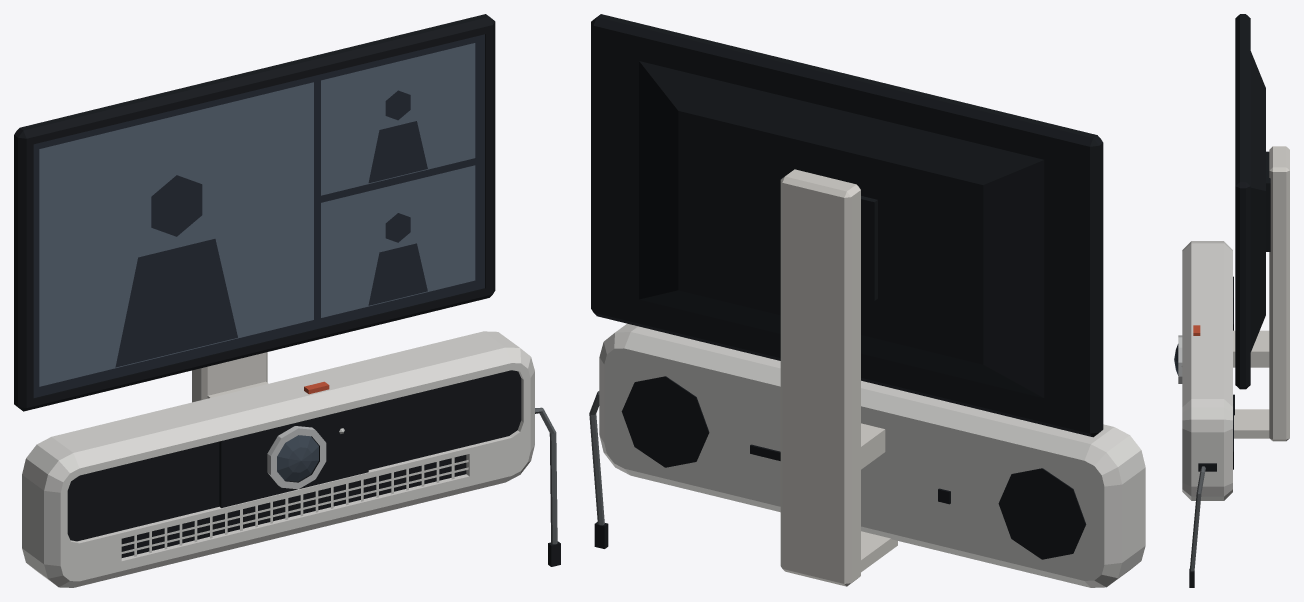
The model's file is conference-camera-bar-419e10.glb.
The picture shows the model from 3 angles, left to right: view 1: azimuth 30°, elevation 25°; view 2: azimuth 150°, elevation 25°; view 3: azimuth 270°, elevation 25°; orthographic projection. The views are drawn at different scales.
Visible parts, largest first — view 1: object 1, lens-pod; view 2: object 1; view 3: object 1.
Boxes of the visible parts, x1=… form: object 1: x1=14, y1=14, x2=560, y2=587; lens-pod: x1=277, y1=435, x2=318, y2=481; object 1: x1=589, y1=14, x2=1145, y2=587; object 1: x1=1178, y1=14, x2=1289, y2=587.
Size of the model in its own units: 0.7576 by 0.7454 by 0.199.
